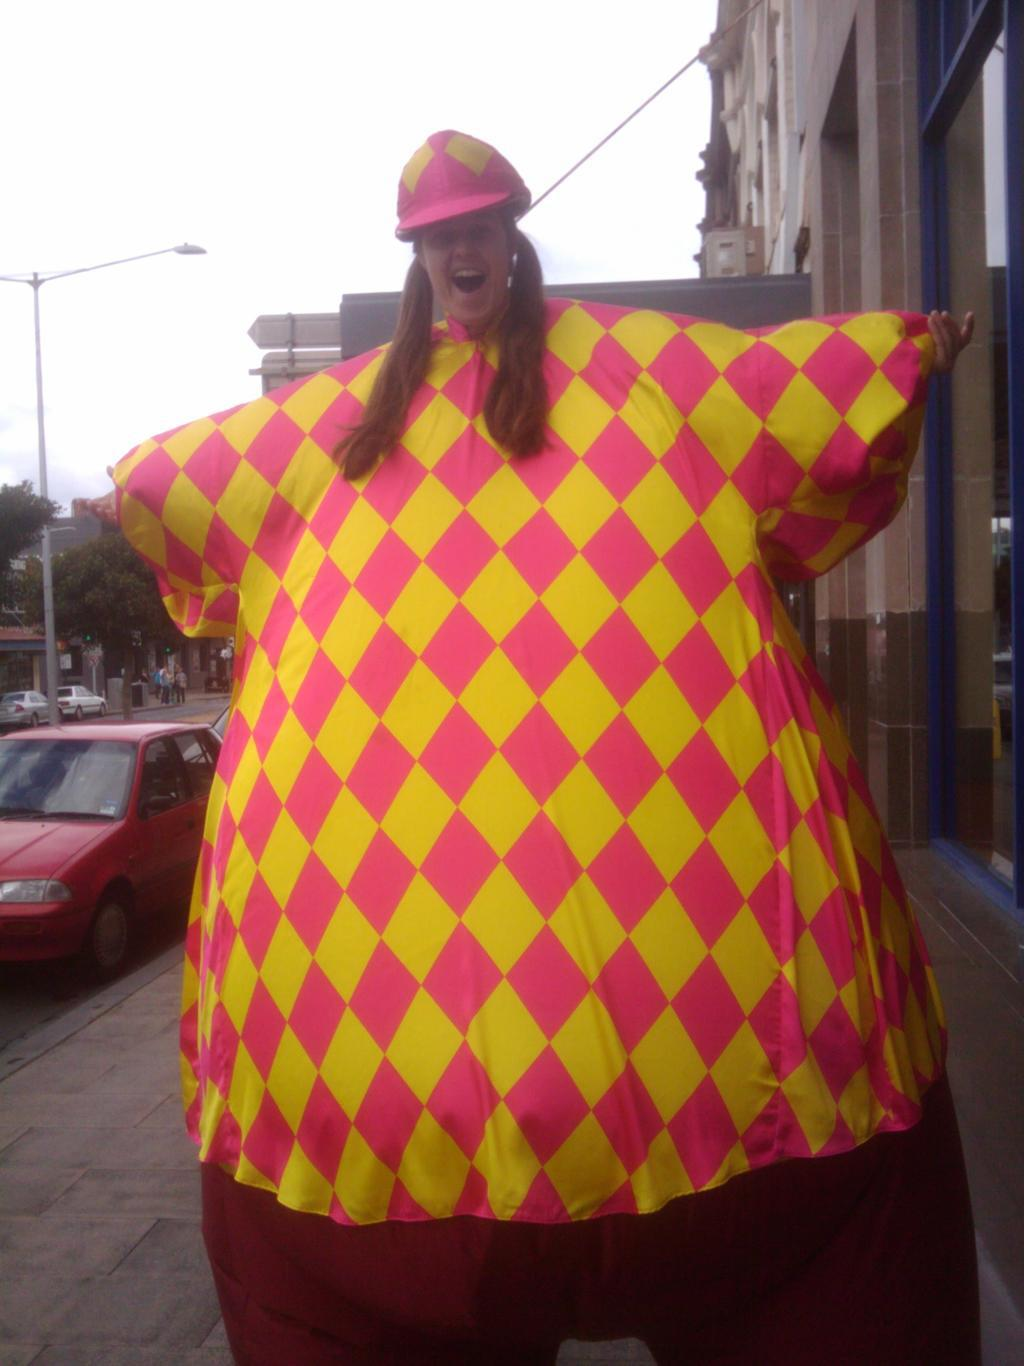face: (420, 188, 511, 308)
